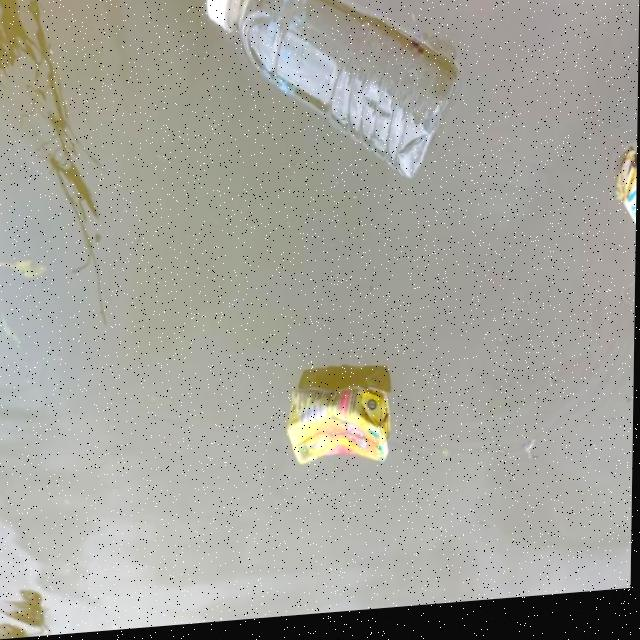paper: (254, 368, 390, 476), (610, 117, 638, 268)
waterbottle: (184, 0, 491, 203)
